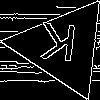K: (37, 22, 79, 71)
